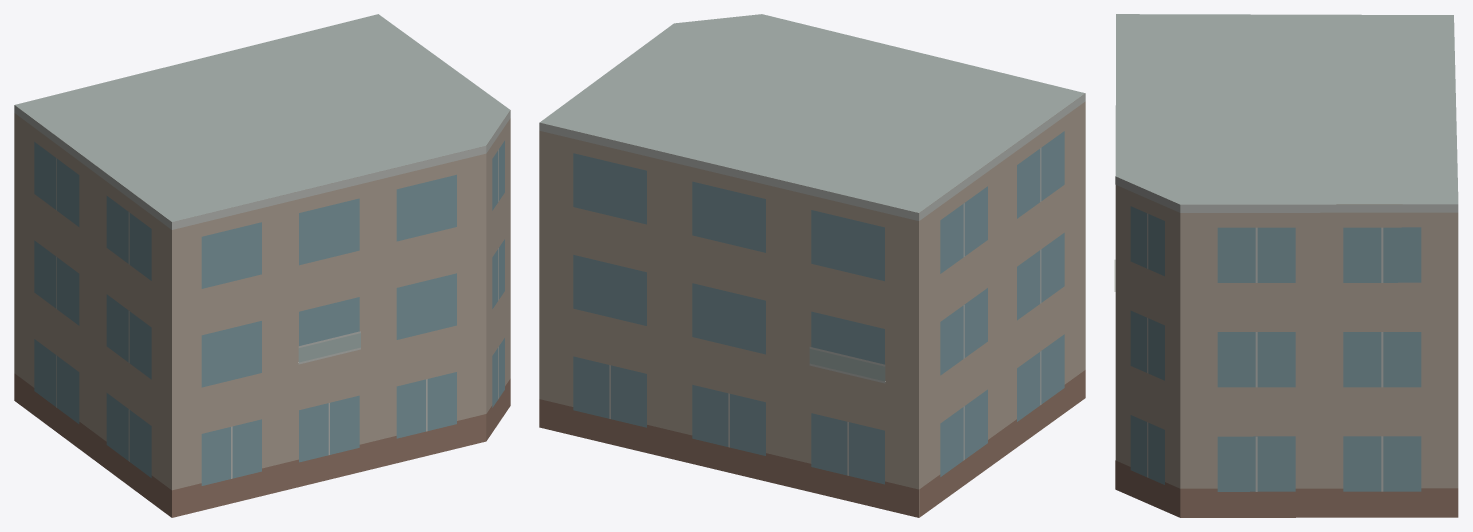
Rendered from survey-upis-32830699.glb.
3 views of the same model, side by side, from view 1: azimuth 30°, elevation 25°; view 2: azimuth 150°, elevation 25°; view 3: azimuth 270°, elevation 25° (orthographic). The views are drawn at different scales.
Visible parts, largest first — view 1: survey-upis-32830699.tmp; view 2: survey-upis-32830699.tmp; view 3: survey-upis-32830699.tmp.
Part boxes in pixels (x1,y1,x2,y2): survey-upis-32830699.tmp: (14,14,510,517); survey-upis-32830699.tmp: (539,14,1085,517); survey-upis-32830699.tmp: (1114,14,1458,517).
Bounding box in the file's own units: 11.96 × 9.15 × 9.12.
